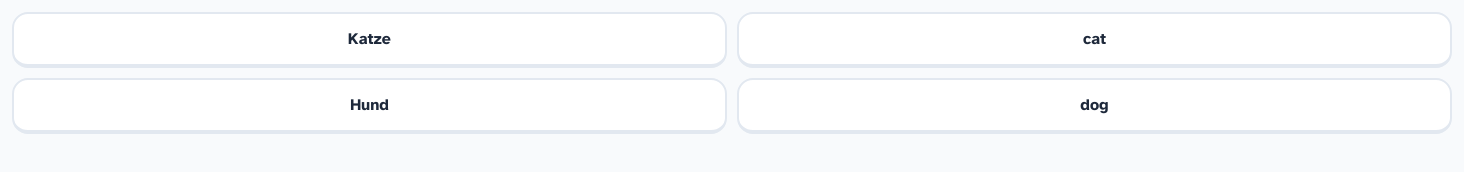
Test case: MatchPairs (Standard: zwei Spalten) › Match lässt das Paar verblassen und deaktiviert es
The image size is (1464, 172).
What coordinates should you click on to do the following:
click the button "Hund"
I would click on:
 (370, 106)
Its box is [12,78,727,134].
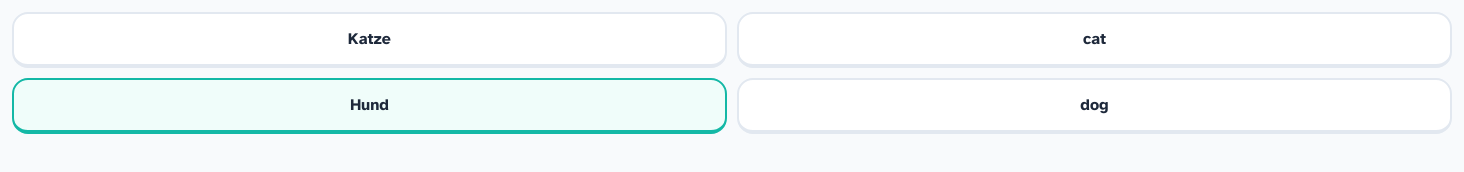
What coordinates should you click on to do the following:
click the button "dog"
I would click on:
 (1094, 106)
Its box is [737,78,1452,134].
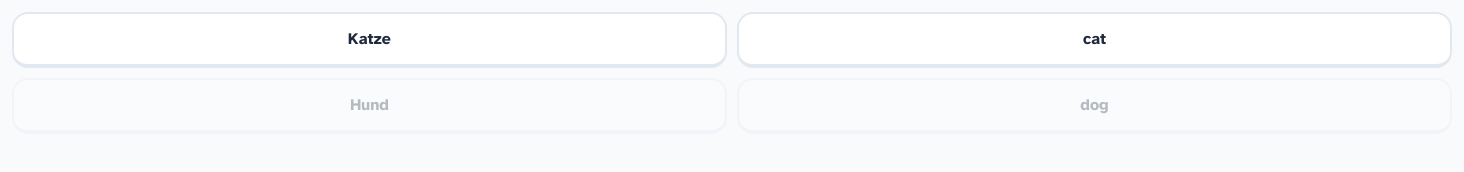
Check: the button "Hund" is disabled, box [12,78,727,134]
Check: the button "dog" is disabled, box [737,78,1452,134]
